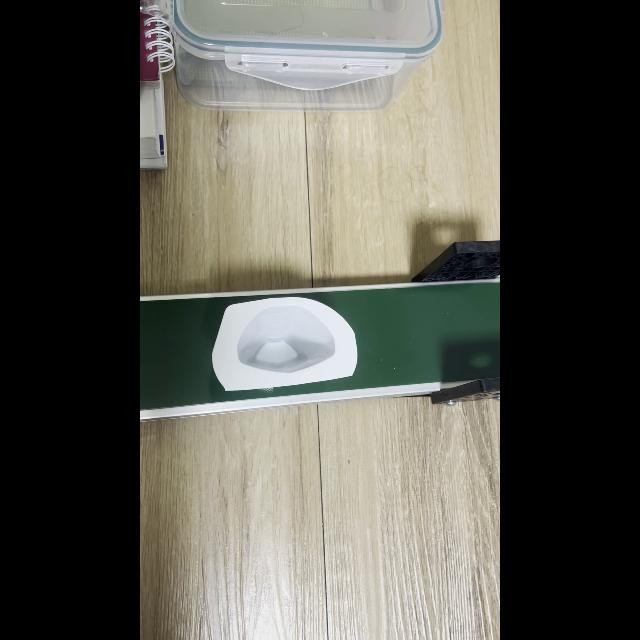clean: (212, 304, 352, 384)
